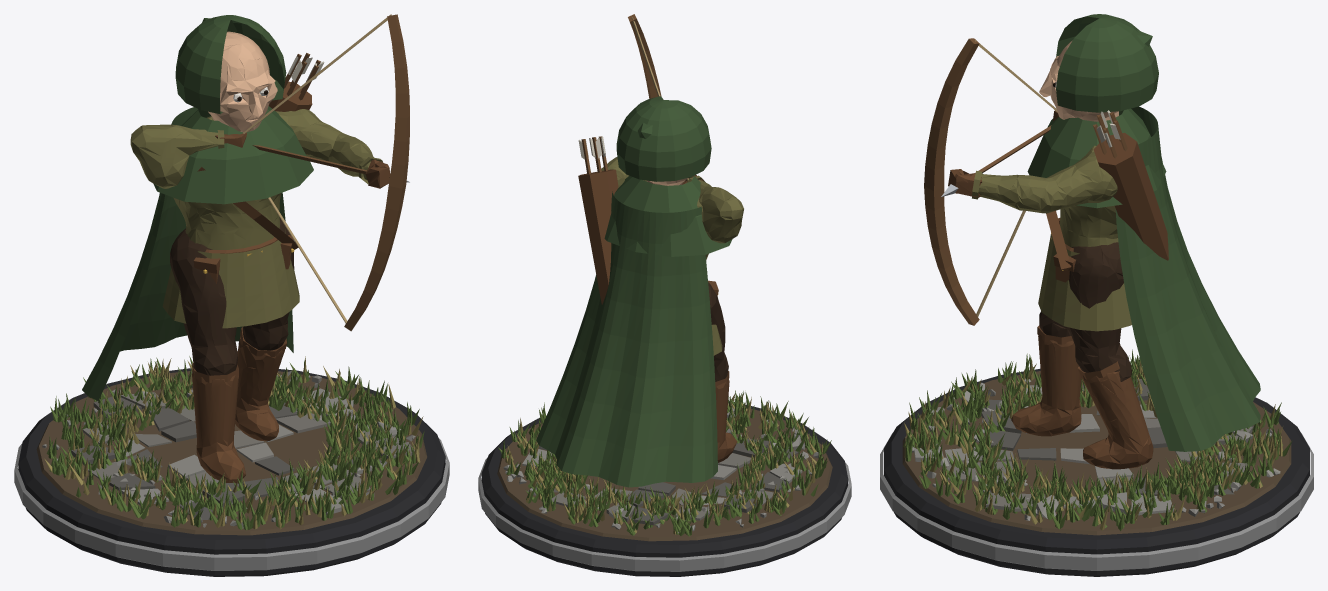
The model's file is ranger.glb.
3 renders of one model, left to right at view 1: azimuth 30°, elevation 25°; view 2: azimuth 150°, elevation 25°; view 3: azimuth 270°, elevation 25°, orthographic. The views are drawn at different scales.
Visible parts, largest first — view 1: ranger; view 2: ranger; view 3: ranger.
Part boxes in pixels (left/top/right/bottom): ranger: left=14, top=14, right=449, bottom=576; ranger: left=478, top=14, right=851, bottom=576; ranger: left=880, top=14, right=1313, bottom=576.
Size of the model in its own units: 0.856 by 1.08 by 0.8498.
